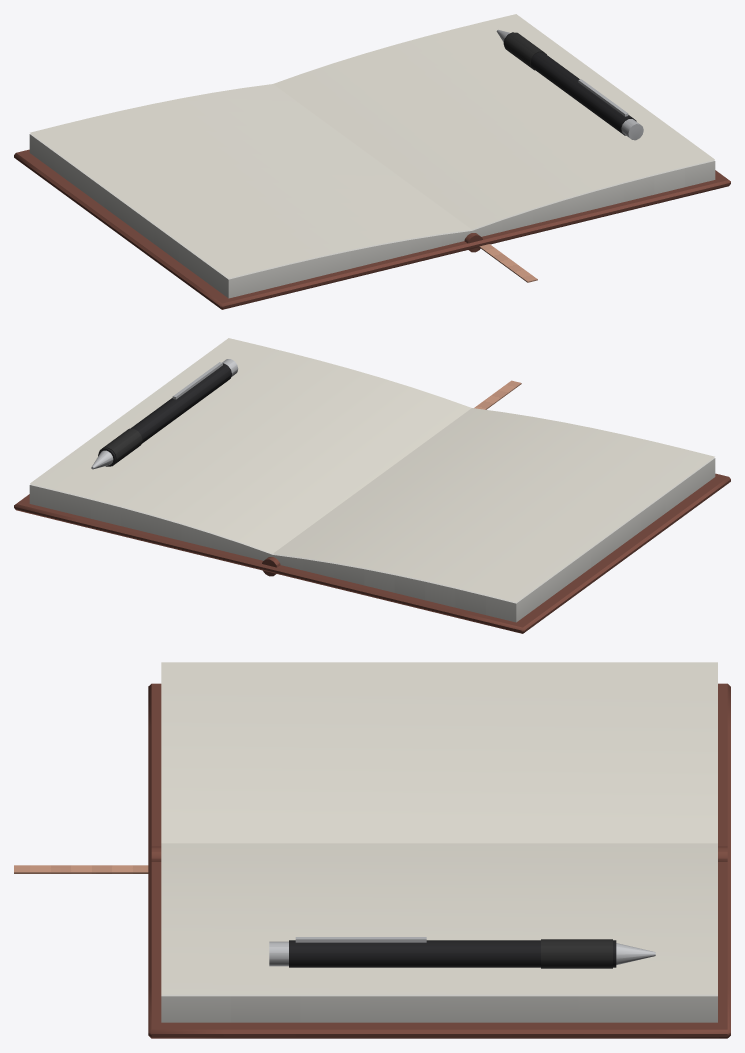
File: journal_open.glb
3 views of the same model, one above another, from view 1: azimuth 30°, elevation 25°; view 2: azimuth 150°, elevation 25°; view 3: azimuth 270°, elevation 25° (orthographic). The views are drawn at different scales.
Visible parts, largest first — view 1: panels, body, pen; view 2: panels, body, pen; view 3: panels, body, pen.
Part boxes in pixels (left/top/right/bottom): panels: left=30, top=14, right=714, bottom=278; body: left=14, top=133, right=730, bottom=309; pen: left=496, top=29, right=643, bottom=140; panels: left=30, top=338, right=714, bottom=602; body: left=14, top=380, right=730, bottom=633; pen: left=91, top=359, right=238, bottom=469; panels: left=161, top=662, right=717, bottom=994; body: left=14, top=683, right=730, bottom=1038; pen: left=269, top=937, right=655, bottom=968.
Size of the model in its own units: 0.252 by 0.0242 by 0.219.
Materials: 7 (1 with a texture image).
